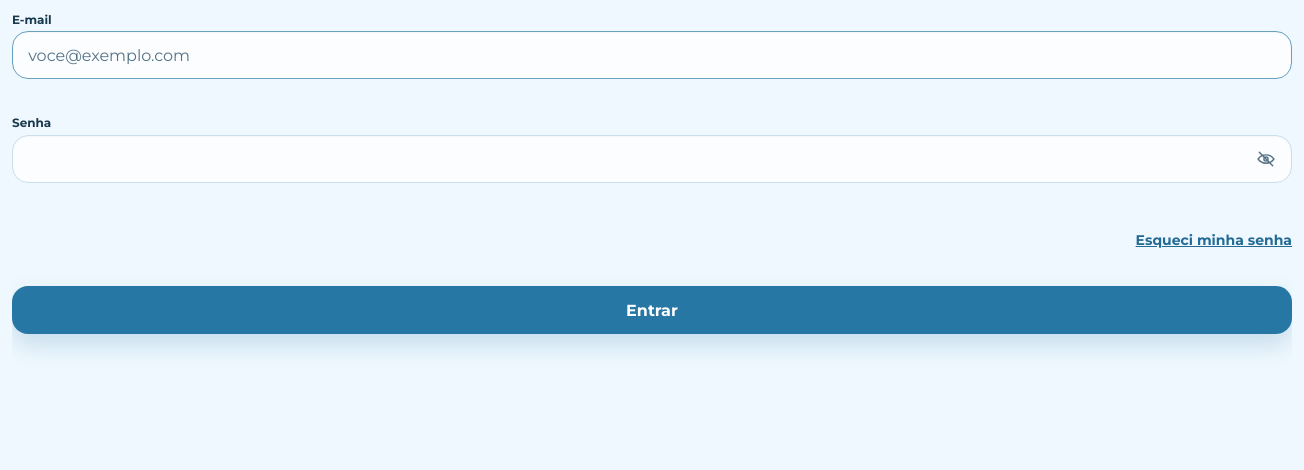
mostra credenciais inválidas sem revelar detalhes do servidor
Type " user@example.com " into the field labelled "E-mail" at (652, 56), box [12, 32, 1292, 80]
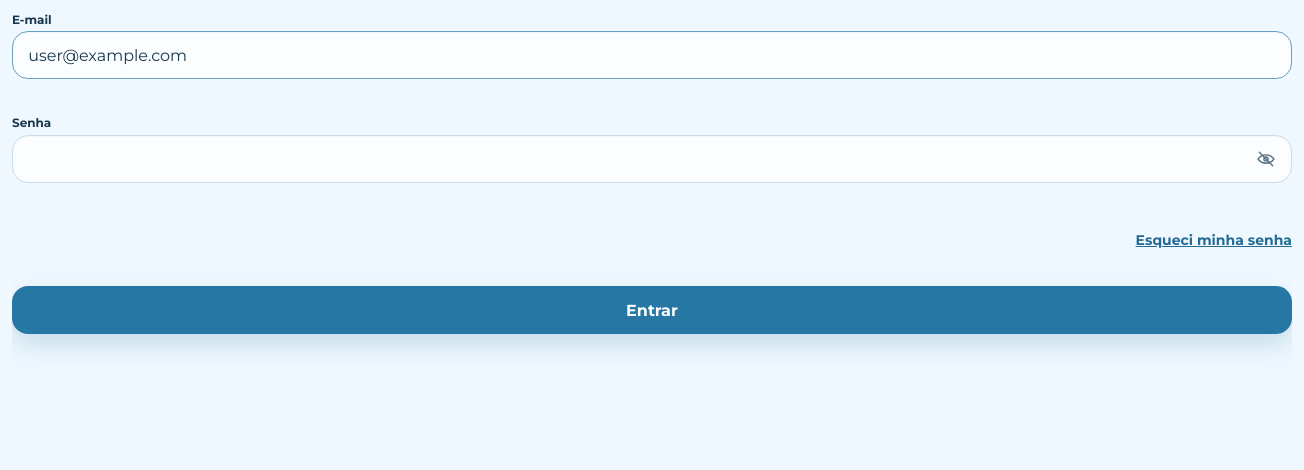
Type "senha-segura" into the password field labelled "Senha" at (652, 159), box [12, 135, 1292, 183]
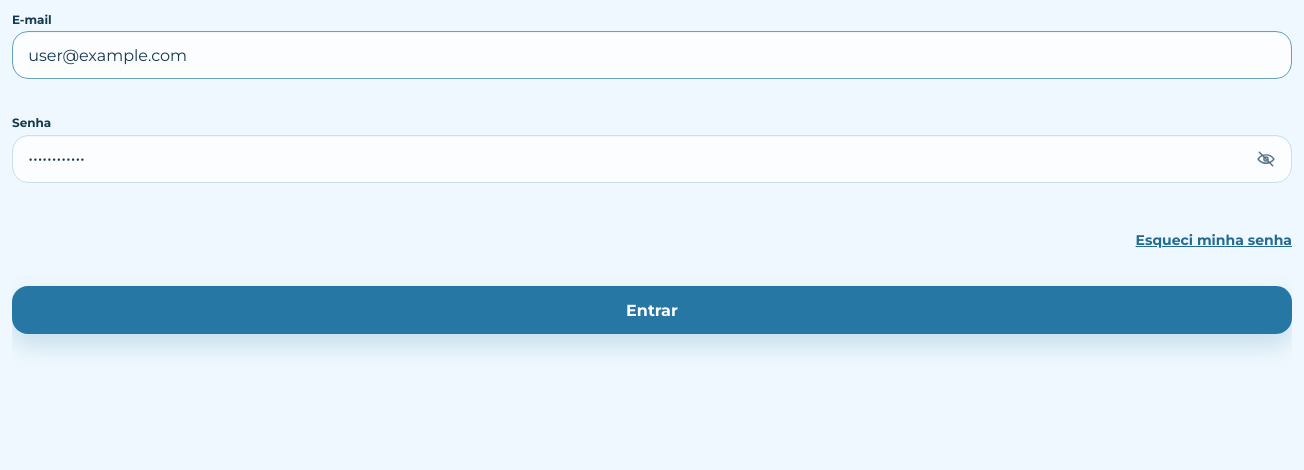
Click the button "Entrar" at (652, 310), box [12, 286, 1292, 334]
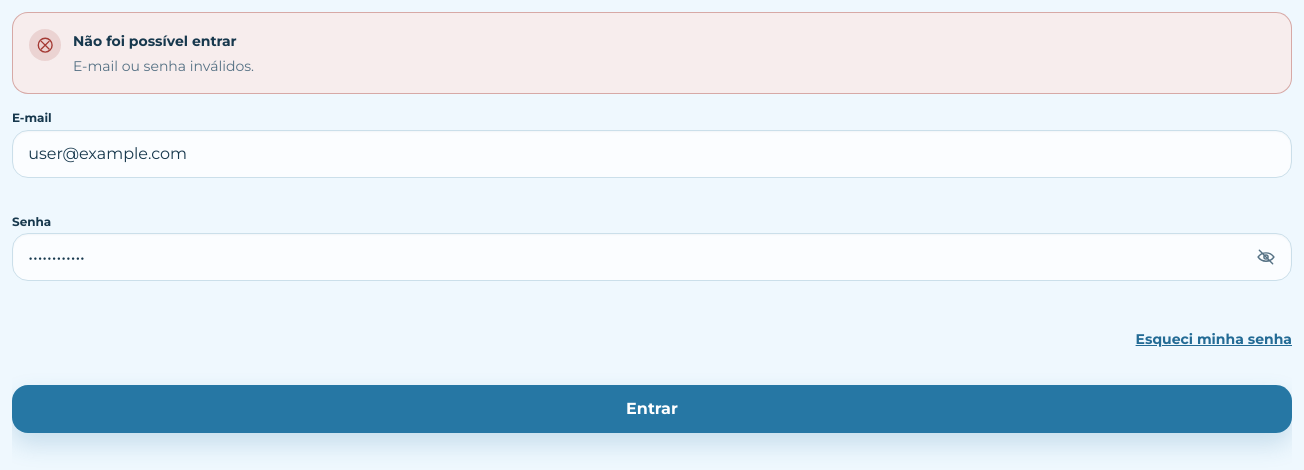
Expected: the text "E-mail ou senha inválidos." is shown, [73, 57, 254, 75]
